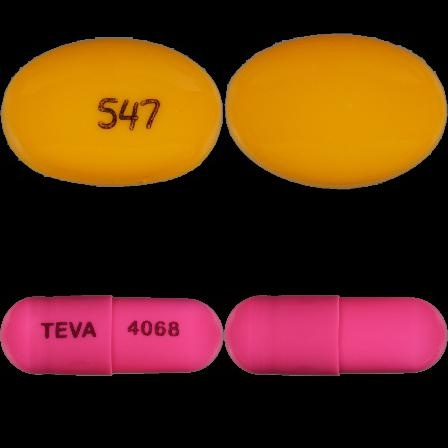43353-034: (0, 0, 224, 224)
